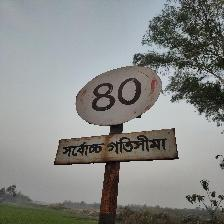Speed-limit: (56, 64, 177, 165)
